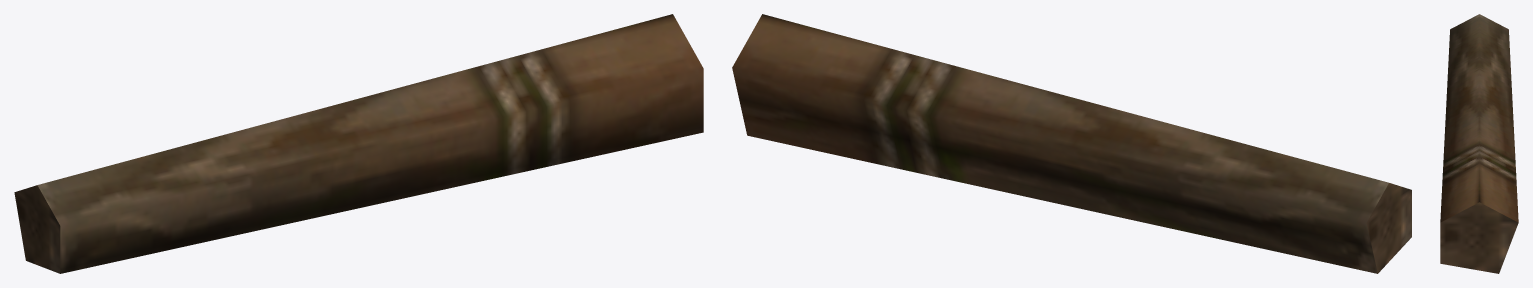
File: common_yewai_muzhuang04.FBX
3 views of the same model, side by side, from view 1: azimuth 30°, elevation 25°; view 2: azimuth 150°, elevation 25°; view 3: azimuth 270°, elevation 25° (orthographic). The views are drawn at different scales.
Parts seen in each view (by area): view 1: common_yewai_muzhuang04; view 2: common_yewai_muzhuang04; view 3: common_yewai_muzhuang04.
Part boxes in pixels (x1,y1,x2,y2): common_yewai_muzhuang04: (14,14,703,273); common_yewai_muzhuang04: (732,14,1411,273); common_yewai_muzhuang04: (1440,14,1518,273).
Bounding box in the file's own units: 1.56 × 0.2623 × 0.2596.
